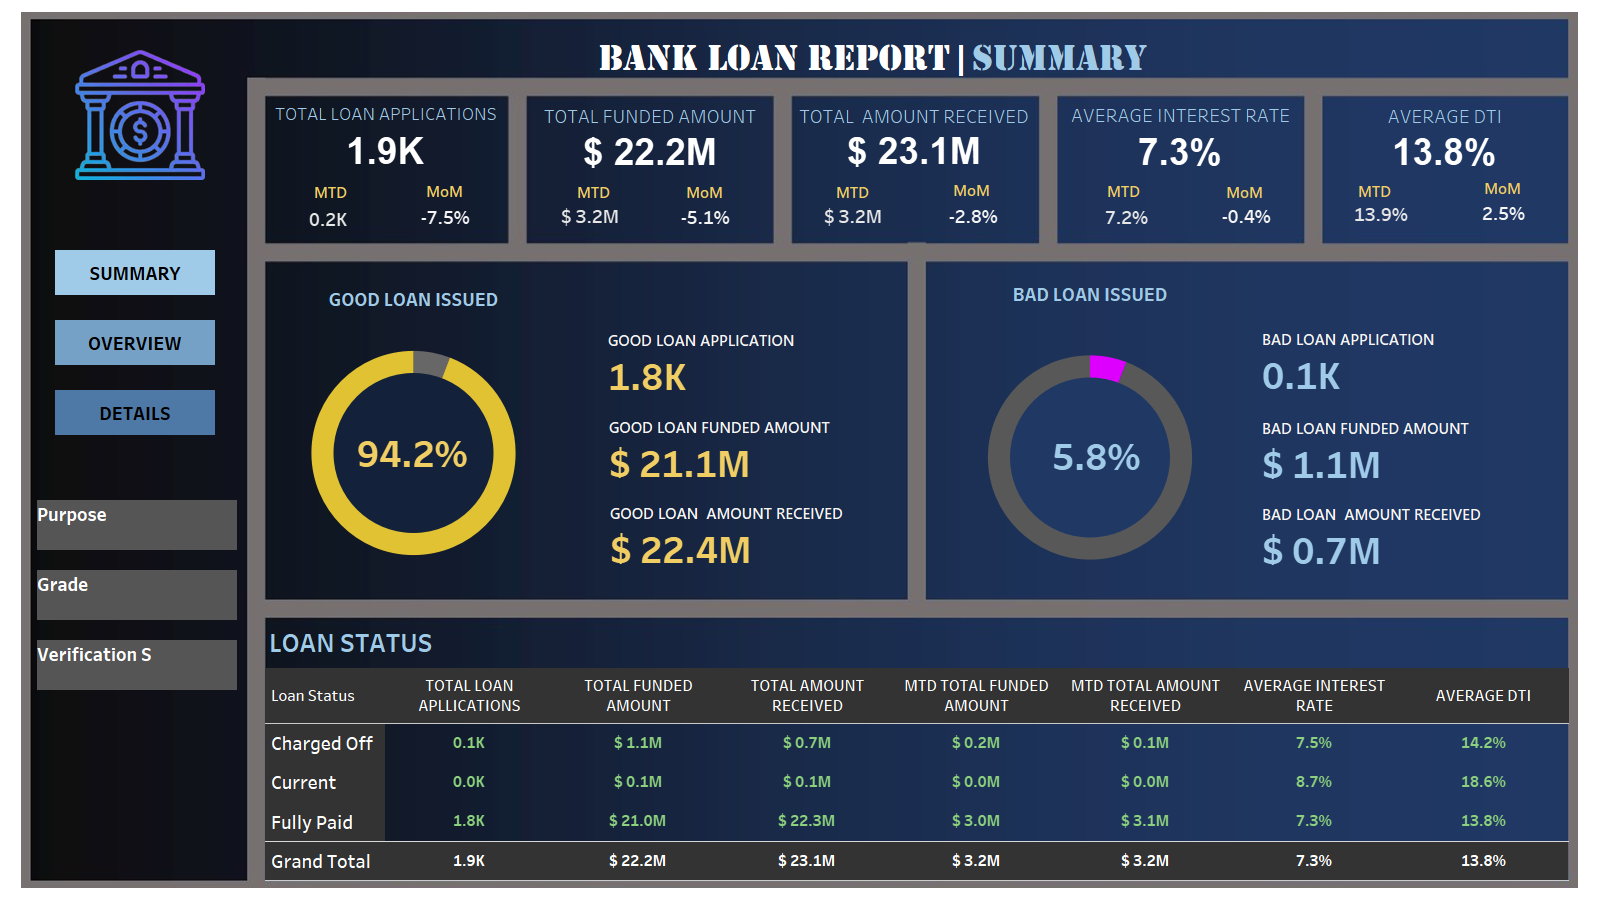

The page's visual inventory and layout, read from the dashboard file:
{"tool":"tableau","page":{"name":"SUMMARY","canvas":[1600,900],"ordinal":2},"visuals":[{"type":"image","param":"C:/Users/Maanik/Downloads/Bank Loan Project-20240807T073315Z-001/Bank Loan Proje","box":[8,8,1584,884]},{"type":"text","box":[595,26,578,65]},{"type":"image","param":"C:/Users/Maanik/AppData/Local/Temp/TableauTemp/15ree561h9ufwv19vqi0z10ak1fa/Shee","box":[75,40,130,150]},{"type":"image","param":"C:/Users/Maanik/AppData/Local/Temp/TableauTemp/0zkw3at1ra2ahx14gca6o1qifzz1/Shee","box":[75,40,130,150]},{"type":"worksheet","title":"TOTAL LOAN APPLICATIONS","mark":"Automatic","box":[264,95,244,75]},{"type":"worksheet","title":"AVERAGE INTEREST RATE","mark":"Automatic","box":[1057,96,247,74]},{"type":"worksheet","title":"TOTAL FUNDED AMOUNT","mark":"Automatic","box":[528,97,244,72]},{"type":"worksheet","title":"TOTAL AMOUNT RECEIVED","mark":"Automatic","box":[792,97,244,71]},{"type":"worksheet","title":"AVERAGE DTI","mark":"Automatic","box":[1323,97,244,73]},{"type":"text","box":[1479,173,47,30]},{"type":"text","box":[948,175,47,30]},{"type":"text","box":[421,176,47,30]},{"type":"text","box":[1100,176,47,30]},{"type":"text","box":[1351,176,47,30]},{"type":"text","box":[307,177,47,30]},{"type":"text","box":[570,177,47,30]},{"type":"text","box":[681,177,47,30]},{"type":"text","box":[829,177,47,30]},{"type":"text","box":[1221,177,47,30]},{"type":"worksheet","title":"MTD AVERAGE INTEREST RATE","mark":"Automatic","box":[1079,180,97,74]},{"type":"worksheet","title":"MoM AVERAGE DTI","mark":"Automatic","box":[1458,181,93,64]},{"type":"worksheet","title":"MoM AVERAGE INTEREST RATE (2)","mark":"Automatic","box":[1188,182,118,68]},{"type":"worksheet","title":"MTD TOTAL AMOUNT RECEIVED","mark":"Automatic","box":[796,187,116,59]},{"type":"worksheet","title":"MoM TOTAL AMOUNT RECEIVED","mark":"Automatic","box":[933,187,82,59]},{"type":"worksheet","title":"MTD TOTAL FUNDED AMOUNT","mark":"Automatic","box":[550,190,81,52]},{"type":"worksheet","title":"MTD AVERAGE DTI","mark":"Automatic","box":[1331,193,100,43]},{"type":"worksheet","title":"MoM TOTAL FUNDED AMOUNT","mark":"Automatic","box":[656,195,100,44]},{"type":"worksheet","title":"MoM LOAN APPLICATIONS","mark":"Automatic","box":[400,200,91,35]},{"type":"worksheet","title":"MTD TOTAL LOAN APPLICATIONS","mark":"Automatic","box":[302,204,53,31]},{"type":"dashboard-object","box":[55,250,160,45]},{"type":"worksheet","title":"BAD LOAN ISSUED","mark":"Pie","rows":["Calculation_457959835337248790","Calculation_457959835337248790"],"box":[940,275,300,325]},{"type":"worksheet","title":"GOOD LOAN ISSUED","mark":"Pie","rows":["Calculation_457959835337248790","Calculation_457959835337248790"],"box":[270,280,287,306]},{"type":"worksheet","title":"BAD LOAN APPLICATION ","mark":"Automatic","box":[1254,319,300,75]},{"type":"dashboard-object","box":[55,320,160,45]},{"type":"worksheet","title":"GOOD LOAN APPLICATION","mark":"Automatic","box":[600,320,300,75]},{"type":"dashboard-object","box":[55,390,160,45]},{"type":"worksheet","title":"GOOD LOAN APPLICATION %","mark":"Automatic","box":[329,391,168,122]},{"type":"worksheet","title":"BAD LOAN APPLICATION % ","mark":"Automatic","box":[989,391,216,128]},{"type":"worksheet","title":"GOOD LOAN FUNDED AMOUNT","mark":"Automatic","box":[601,407,300,75]},{"type":"worksheet","title":"BAD LOAN FUNDED AMOUNT","mark":"Automatic","box":[1254,408,300,75]},{"type":"worksheet","title":"GOOD LOAN  AMOUNT RECEIVED","mark":"Automatic","box":[602,493,300,75]},{"type":"worksheet","title":"BAD LOAN  AMOUNT RECEIVED","mark":"Automatic","box":[1254,494,300,75]},{"type":"filter","title":"GOOD LOAN ISSUED","param":"[federated.1c1o7jy136sukd108z0h11665mzk].[none:purpose:nk]","box":[37,500,200,50]},{"type":"filter","title":"GOOD LOAN ISSUED","param":"[federated.1c1o7jy136sukd108z0h11665mzk].[none:grade:nk]","box":[37,570,200,50]},{"type":"worksheet","title":"LOAN STATUS","mark":"Automatic","rows":["loan_status"],"box":[265,619,1304,262]},{"type":"filter","title":"GOOD LOAN ISSUED","param":"[federated.1c1o7jy136sukd108z0h11665mzk].[none:verification_status:nk]","box":[37,640,200,50]}]}

Visuals, with their boxes in screenshot pixels (x1, y1, x2, y2), scaled from the page's 1600x900 canvas onto the 1600x900 screenshot:
image: (8,8,1592,892)
text: (595,26,1173,91)
image: (75,40,205,190)
image: (75,40,205,190)
"TOTAL LOAN APPLICATIONS" worksheet: (264,95,508,170)
"AVERAGE INTEREST RATE" worksheet: (1057,96,1304,170)
"TOTAL FUNDED AMOUNT" worksheet: (528,97,772,169)
"TOTAL AMOUNT RECEIVED" worksheet: (792,97,1036,168)
"AVERAGE DTI" worksheet: (1323,97,1567,170)
text: (1479,173,1526,203)
text: (948,175,995,205)
text: (421,176,468,206)
text: (1100,176,1147,206)
text: (1351,176,1398,206)
text: (307,177,354,207)
text: (570,177,617,207)
text: (681,177,728,207)
text: (829,177,876,207)
text: (1221,177,1268,207)
"MTD AVERAGE INTEREST RATE" worksheet: (1079,180,1176,254)
"MoM AVERAGE DTI" worksheet: (1458,181,1551,245)
"MoM AVERAGE INTEREST RATE (2)" worksheet: (1188,182,1306,250)
"MTD TOTAL AMOUNT RECEIVED" worksheet: (796,187,912,246)
"MoM TOTAL AMOUNT RECEIVED" worksheet: (933,187,1015,246)
"MTD TOTAL FUNDED AMOUNT" worksheet: (550,190,631,242)
"MTD AVERAGE DTI" worksheet: (1331,193,1431,236)
"MoM TOTAL FUNDED AMOUNT" worksheet: (656,195,756,239)
"MoM LOAN APPLICATIONS" worksheet: (400,200,491,235)
"MTD TOTAL LOAN APPLICATIONS" worksheet: (302,204,355,235)
dashboard-object: (55,250,215,295)
"BAD LOAN ISSUED" worksheet (Pie marks): (940,275,1240,600)
"GOOD LOAN ISSUED" worksheet (Pie marks): (270,280,557,586)
"BAD LOAN APPLICATION " worksheet: (1254,319,1554,394)
dashboard-object: (55,320,215,365)
"GOOD LOAN APPLICATION" worksheet: (600,320,900,395)
dashboard-object: (55,390,215,435)
"GOOD LOAN APPLICATION %" worksheet: (329,391,497,513)
"BAD LOAN APPLICATION % " worksheet: (989,391,1205,519)
"GOOD LOAN FUNDED AMOUNT" worksheet: (601,407,901,482)
"BAD LOAN FUNDED AMOUNT" worksheet: (1254,408,1554,483)
"GOOD LOAN  AMOUNT RECEIVED" worksheet: (602,493,902,568)
"BAD LOAN  AMOUNT RECEIVED" worksheet: (1254,494,1554,569)
"GOOD LOAN ISSUED" filter: (37,500,237,550)
"GOOD LOAN ISSUED" filter: (37,570,237,620)
"LOAN STATUS" worksheet: (265,619,1569,881)
"GOOD LOAN ISSUED" filter: (37,640,237,690)
